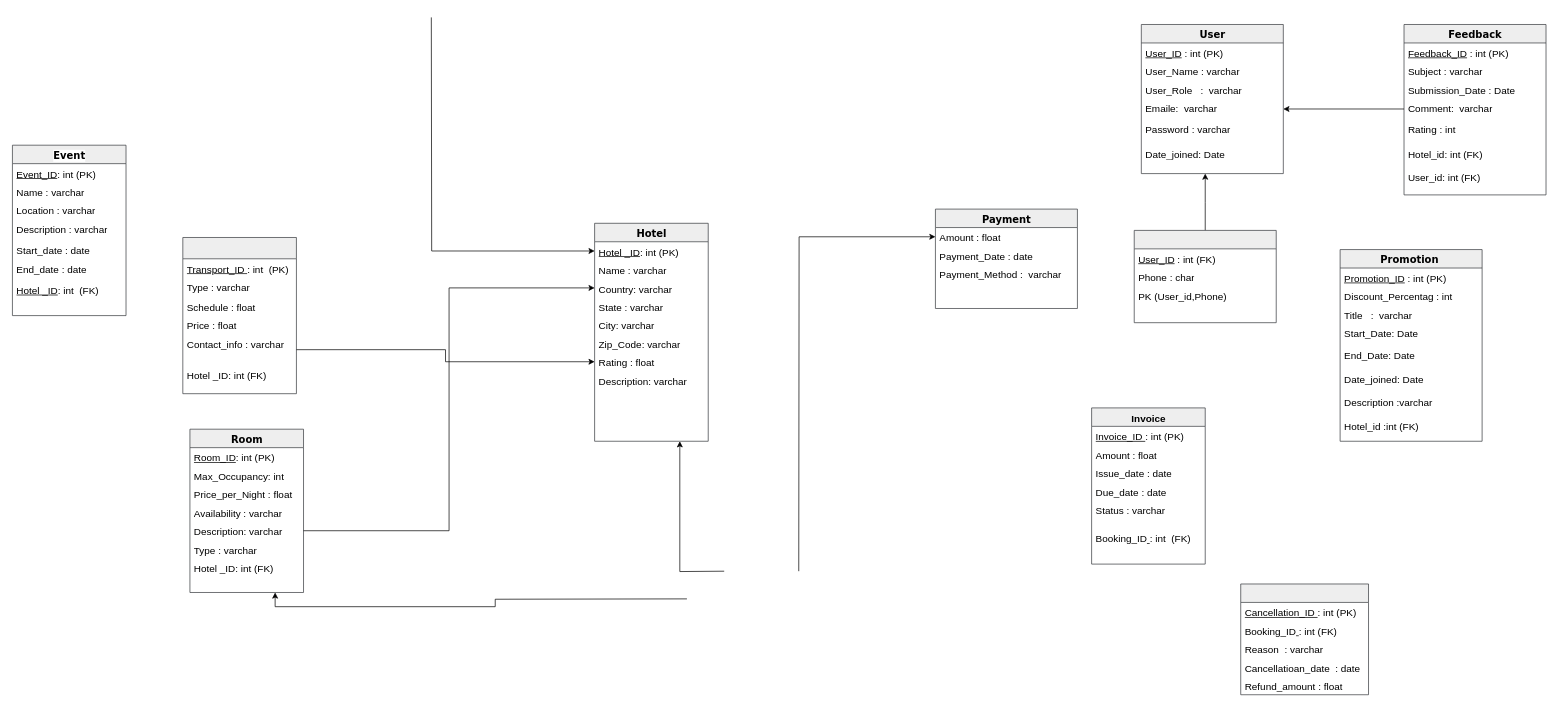
This 1558x709 diagram has some shape labels left out. Each missing label, with the box of its shape:
Reservation_Cancellation: (1240, 583, 1369, 695)
Transportation: (182, 237, 296, 394)
User_Phone: (1134, 230, 1276, 323)
